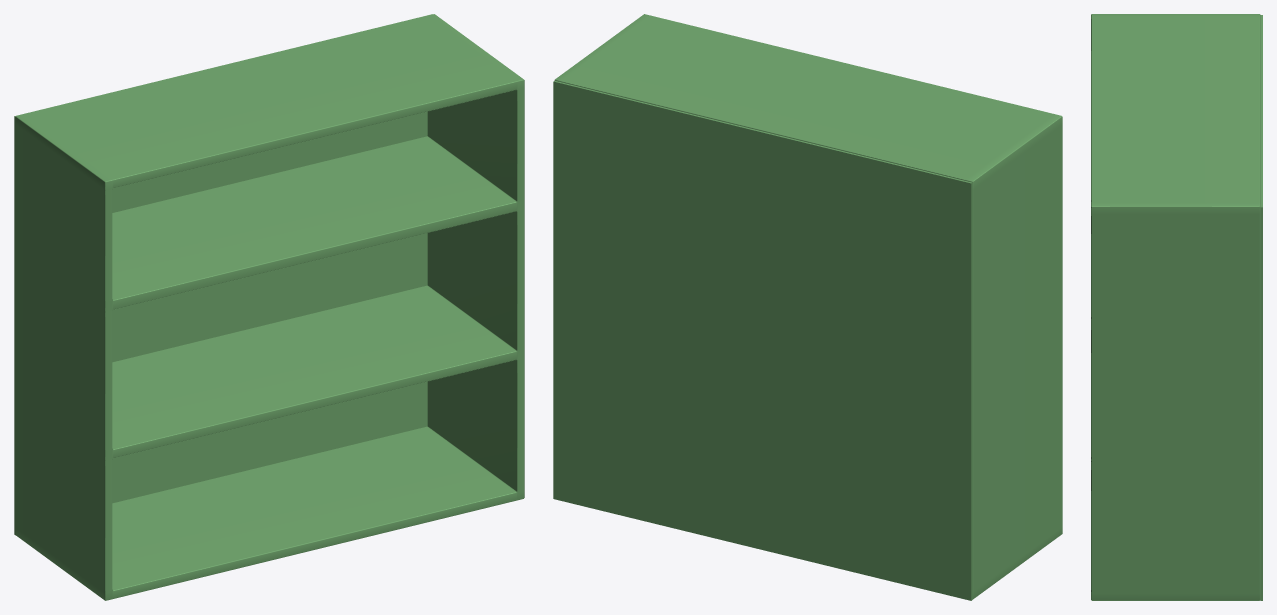
File: Trophy Cabinet.fbx
3 views of the same model, side by side, from view 1: azimuth 30°, elevation 25°; view 2: azimuth 150°, elevation 25°; view 3: azimuth 270°, elevation 25° (orthographic). The views are drawn at different scales.
Visible parts, largest first — view 1: Cabinet, Glass; view 2: Glass, Cabinet; view 3: Cabinet, Glass.
Boxes of the visible parts, box(x1,y1,x2,y2) form: Cabinet: box(15, 14, 524, 600); Glass: box(14, 14, 432, 535); Glass: box(553, 80, 972, 600); Cabinet: box(554, 14, 1062, 599); Cabinet: box(1091, 14, 1260, 600); Glass: box(1260, 15, 1262, 600).
Bounding box in the file's own units: 849 × 811 × 320.
